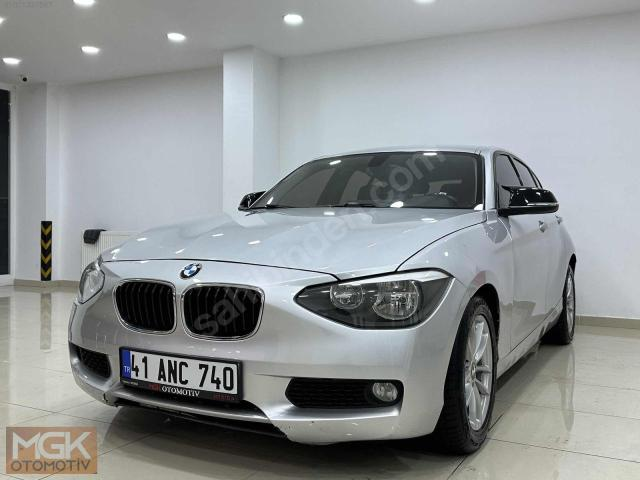plaka: (121, 349, 240, 401)
